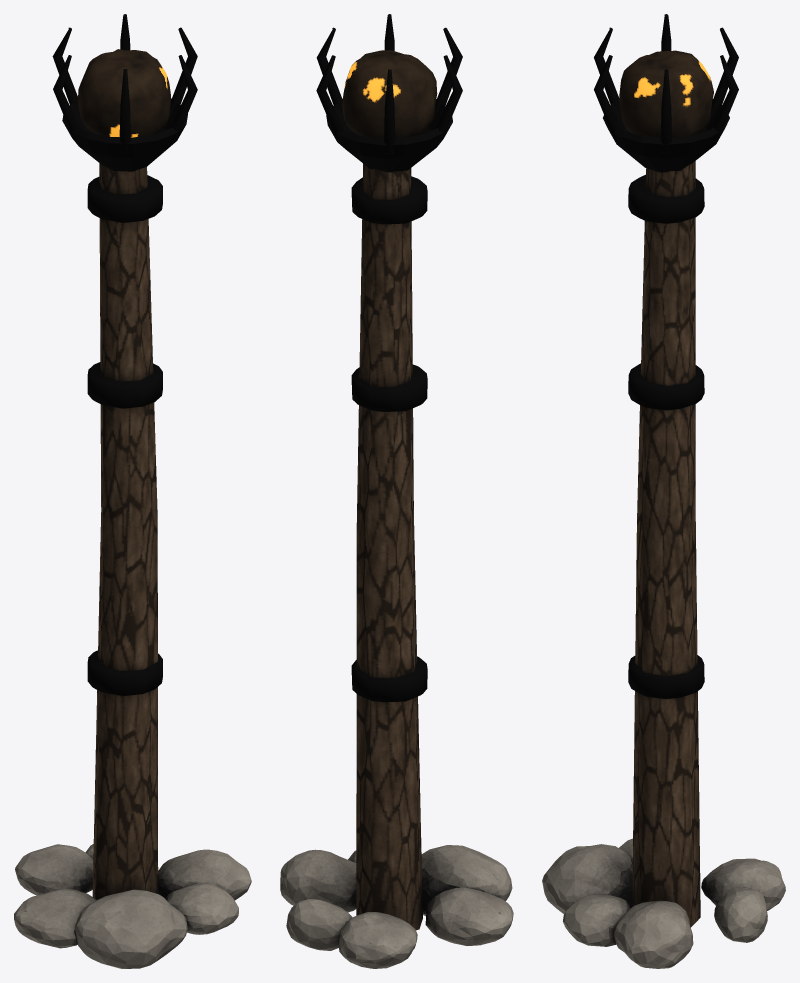
Rendered from cenario_tocha_chao.glb.
The picture shows the model from 3 angles, left to right: view 1: azimuth 30°, elevation 25°; view 2: azimuth 150°, elevation 25°; view 3: azimuth 270°, elevation 25°; orthographic projection.
Parts seen in each view (by area): view 1: cenario_tocha_chao_tronco; view 2: cenario_tocha_chao_tronco; view 3: cenario_tocha_chao_tronco.
Part boxes in pixels (box(x1,y1,x2,y2)): cenario_tocha_chao_tronco: box(14, 14, 251, 968); cenario_tocha_chao_tronco: box(280, 14, 513, 968); cenario_tocha_chao_tronco: box(542, 14, 785, 968).
Bounding box in the file's own units: 0.5349 × 2.01 × 0.4974.
Materials: 1 (1 with a texture image).
